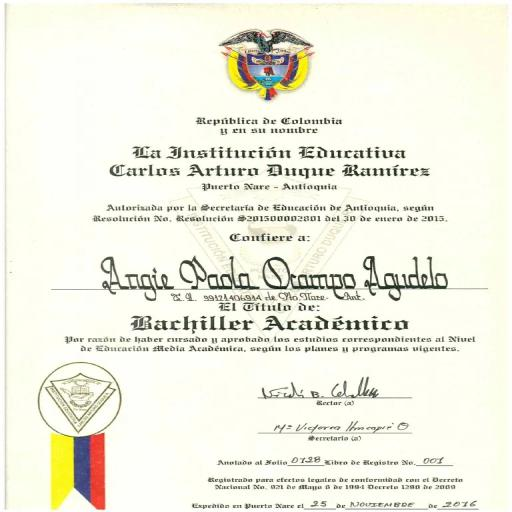bachillerato: (115, 308, 423, 340)
diploma: (6, 4, 509, 511)
escudo: (202, 24, 327, 108)
firma: (227, 366, 422, 411), (228, 416, 445, 454)
institucion: (95, 138, 447, 184)
nombre: (67, 249, 475, 292)
